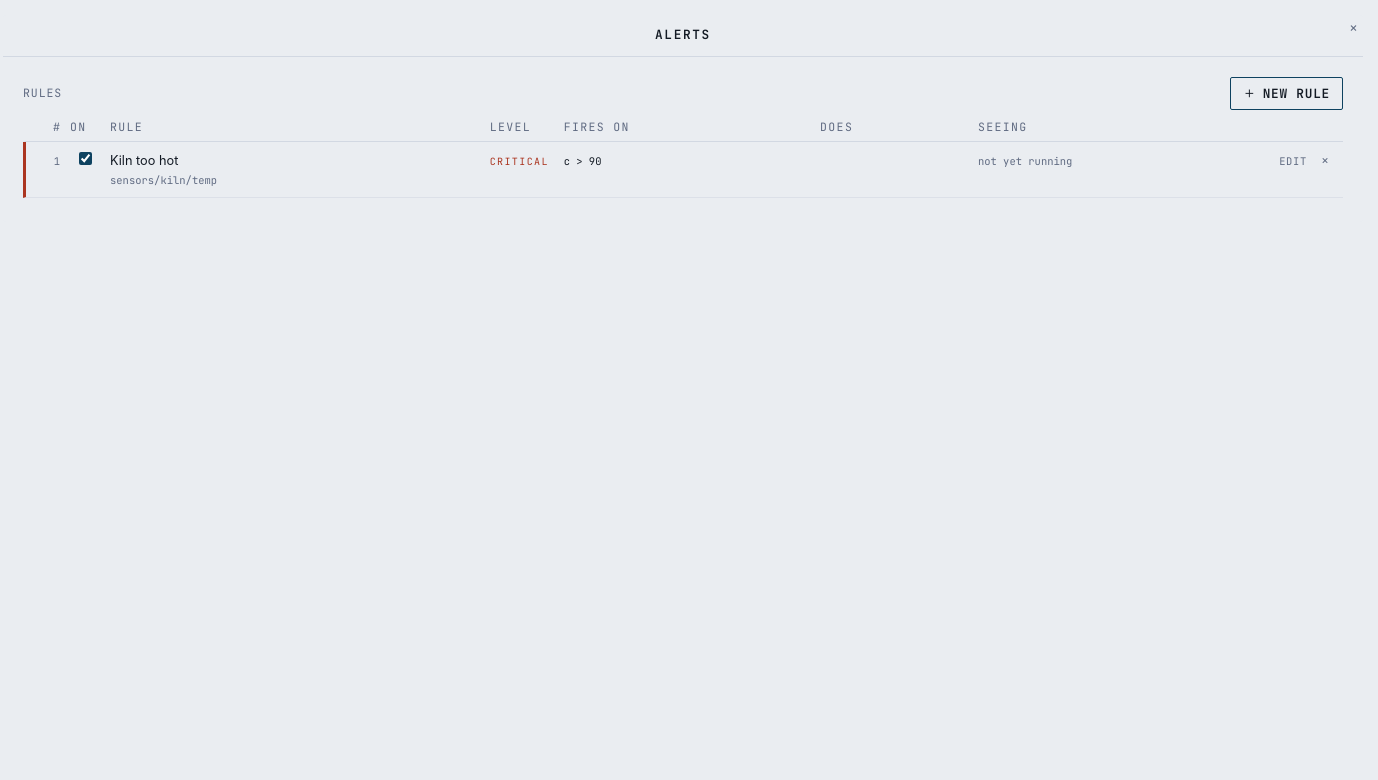
it: AlertsPanel › writes a new rule in the panel itself rather than in a window of its own
Click the button "New rule".
click(1286, 93)  # box [1230,77,1343,110]
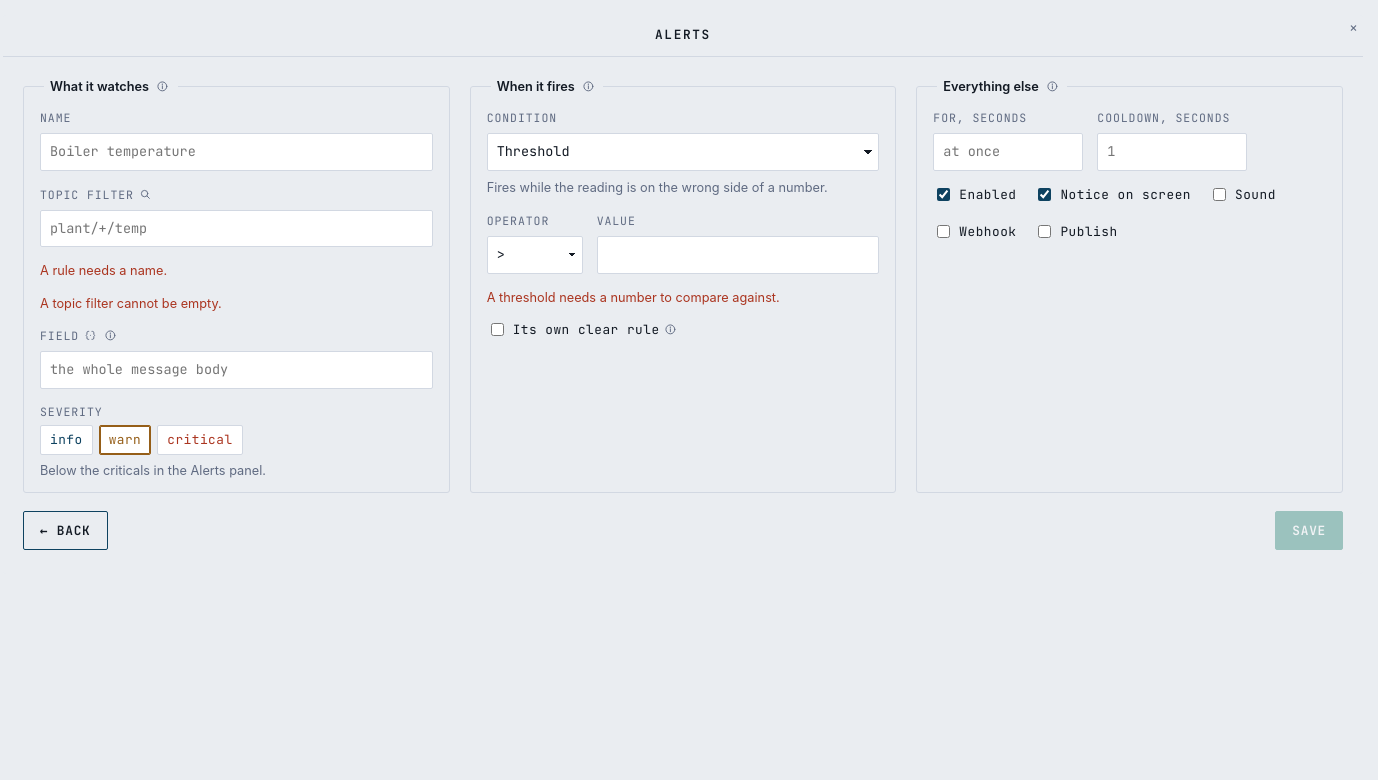
Check: the field labelled "Name" is shown, box [40,133,433,171]
Check: the element with test id "alert-rule" is gone
